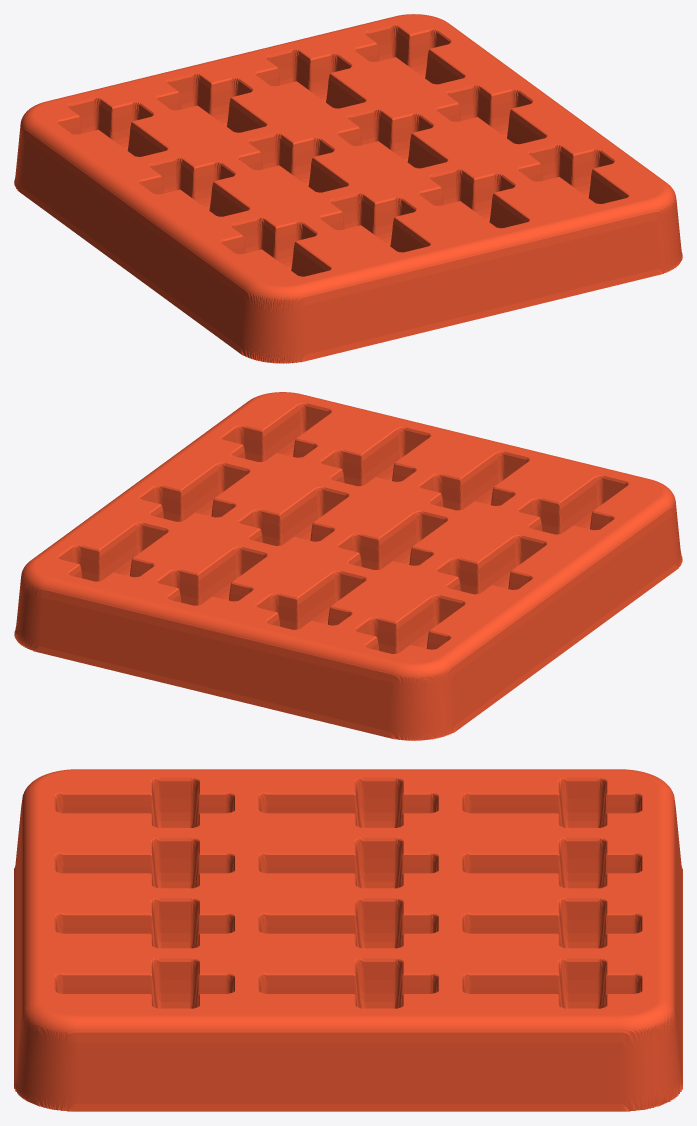
Rendered from mold.glb.
3 renders of one model, top to bottom at view 1: azimuth 30°, elevation 25°; view 2: azimuth 150°, elevation 25°; view 3: azimuth 270°, elevation 25°, orthographic. The views are drawn at different scales.
Parts seen in each view (by area): view 1: geometry_0; view 2: geometry_0; view 3: geometry_0.
Part boxes in pixels (x1,y1,x2,y2): geometry_0: (14, 14, 682, 363); geometry_0: (14, 392, 682, 740); geometry_0: (14, 769, 682, 1111).
Size of the model in its own units: 0.0905 by 0.0136 by 0.0963.
